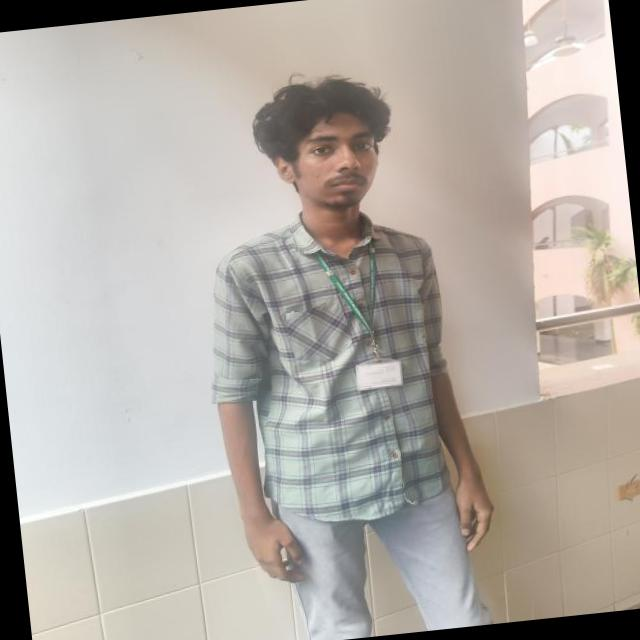id_card: (312, 242, 405, 392)
